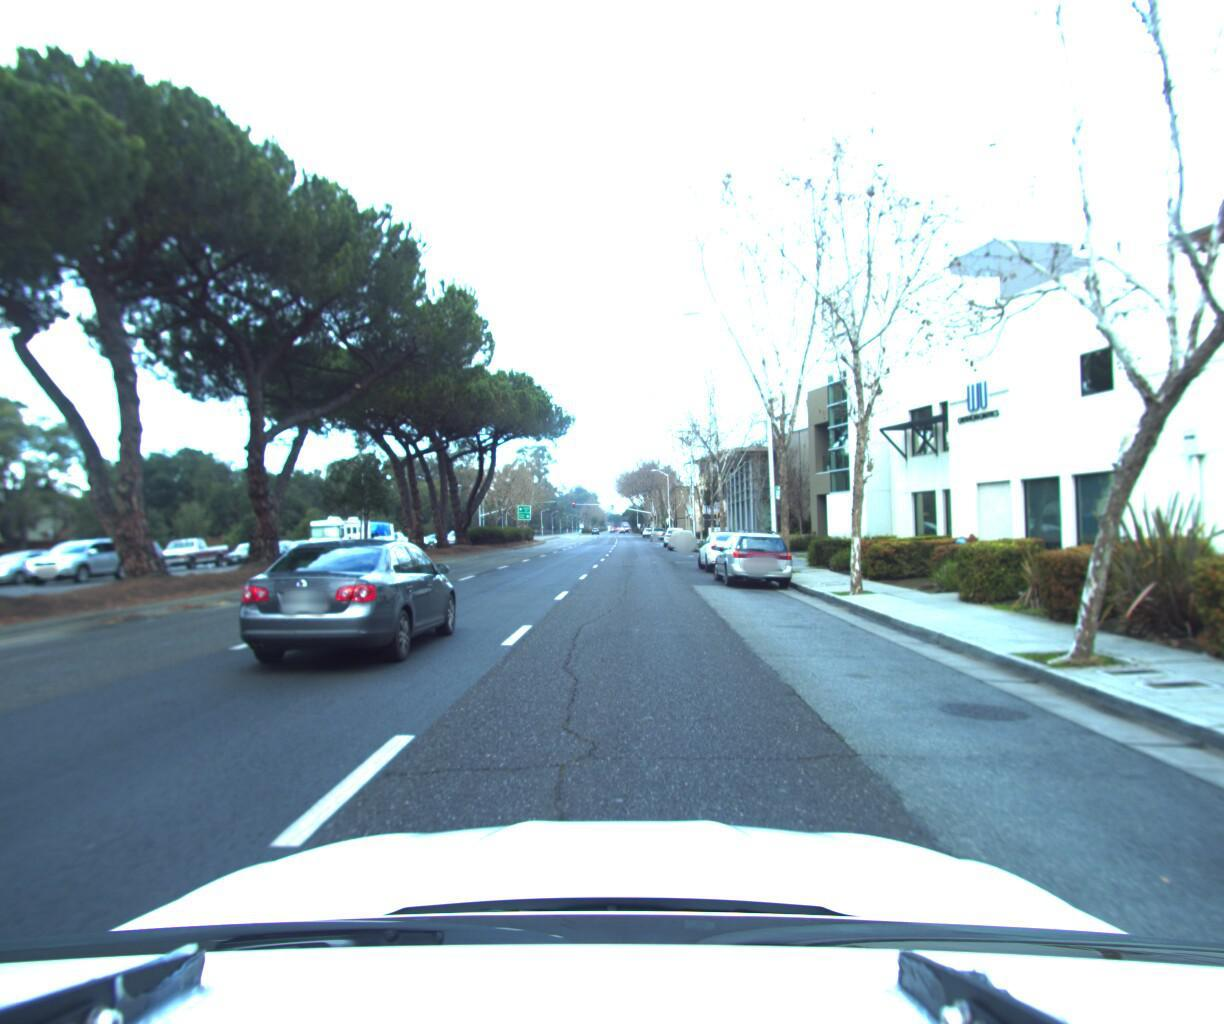car: (231, 532, 472, 681), (713, 520, 803, 585), (21, 537, 138, 587), (0, 547, 84, 588), (151, 534, 237, 570), (699, 523, 762, 570), (222, 538, 283, 565), (256, 539, 308, 563), (279, 537, 324, 559), (665, 522, 698, 548), (362, 534, 396, 552), (0, 553, 6, 600)
other_vehicle: (302, 509, 377, 559), (353, 517, 401, 552)
